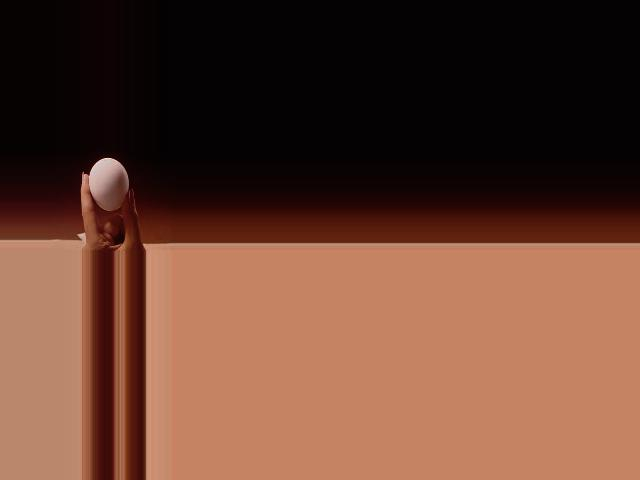egg: (88, 157, 129, 211)
